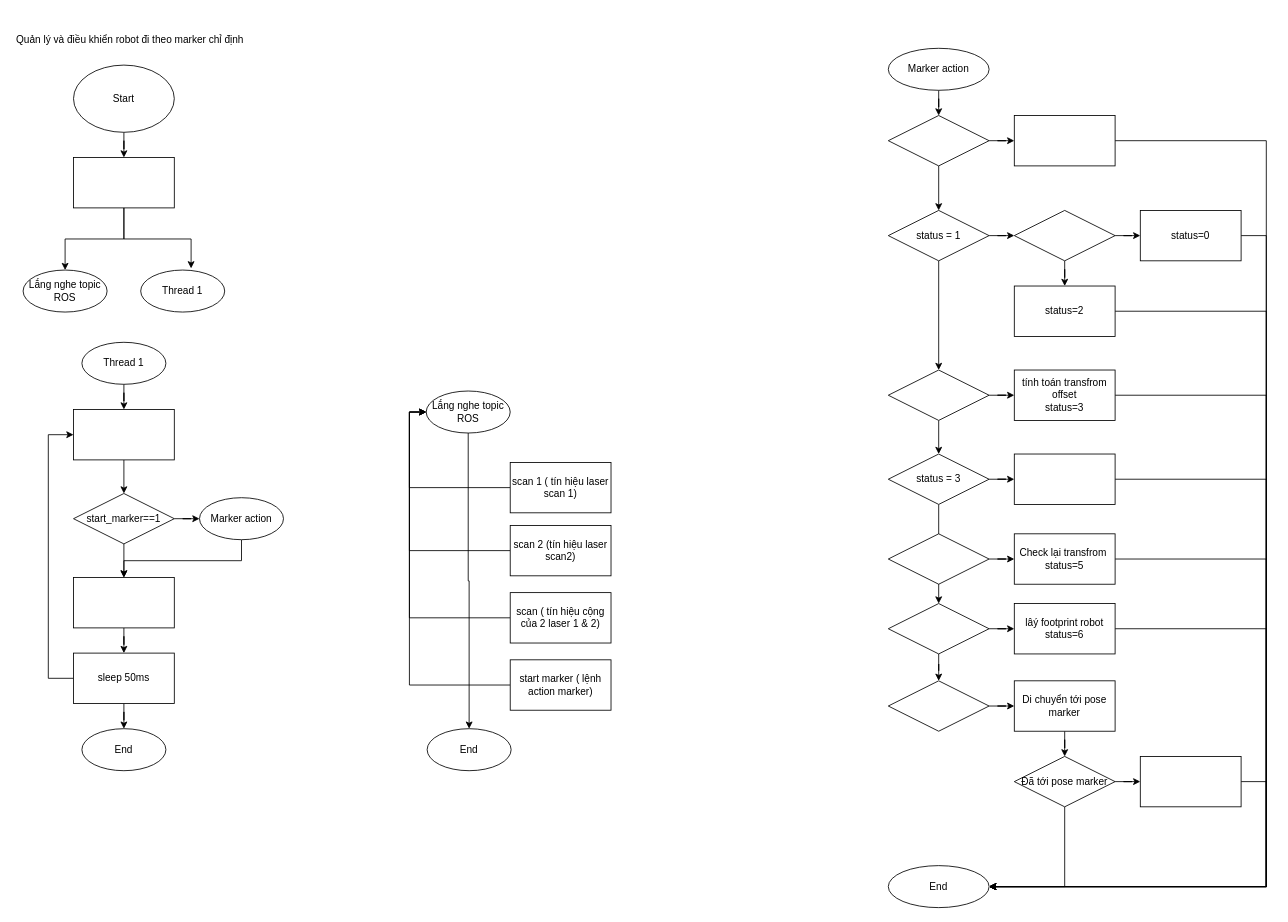
The diagram is 1288 pixels wide and 922 high, and some of its shapes have lost their labels. Here are the shapes that lost their labels. From the top down, the box of each, then its label:
(887, 115, 989, 166): status = 0
(1013, 115, 1115, 166): Lấy dữ liệu scan status=1
(73, 157, 174, 208): Gửi chuyển vị mặc định robot -> base marker
(1013, 210, 1115, 261): Detect Marker
(887, 369, 989, 420): status = 2
(73, 409, 174, 460): Lấy vị trí giữa 2 khung tọa độ odom -> base_footprint
(1013, 453, 1115, 504): transfrom hệ tọa độ /odom -> /base_marker status=4
(887, 533, 989, 584): status = 4
(73, 577, 174, 628): Gửi trạng thái của node marker
(887, 603, 989, 654): status = 5
(887, 680, 989, 731): status = 6
(1139, 756, 1241, 807): status =0
